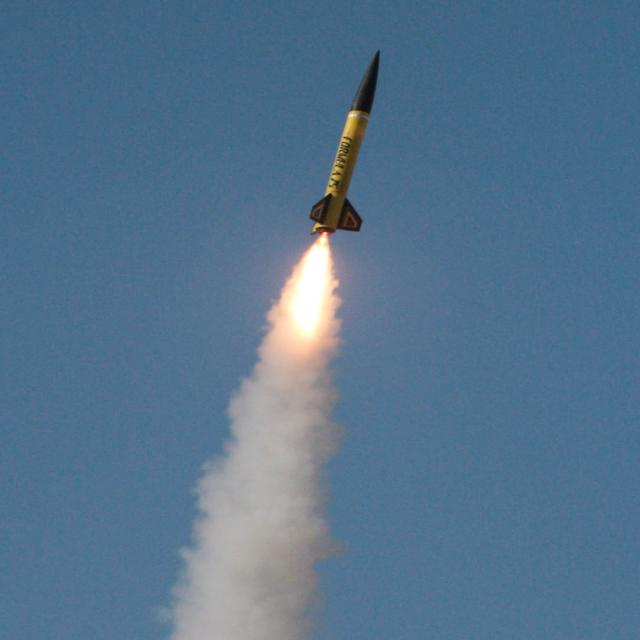Rocket: (308, 48, 382, 238)
